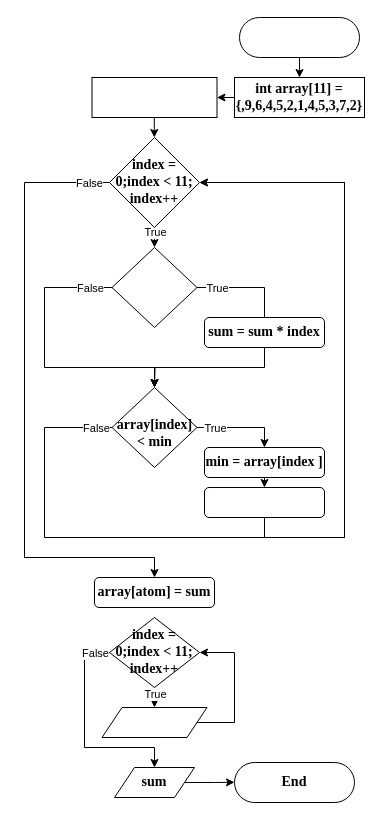
Image size: 382x820. Some labels were removed from this diagram. Each missing label, with the centre of its shape:
"array[index]" goes at pixel 154 722.
"array[index] % 2 == 0" goes at pixel 154 287.
"atom = index" goes at pixel 264 502.
"Beginning" goes at pixel 299 37.
"sum = 1, atom , min = 9999999" goes at pixel 154 97.
